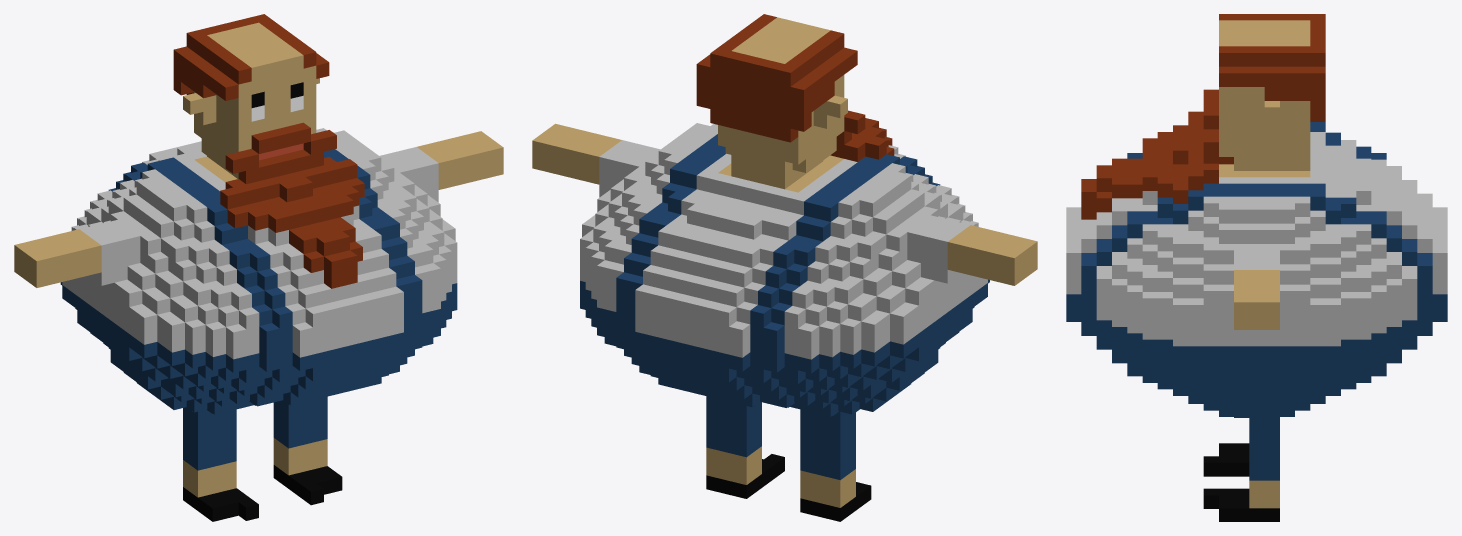
File: Barmen.fbx
The picture shows the model from 3 angles, left to right: view 1: azimuth 30°, elevation 25°; view 2: azimuth 150°, elevation 25°; view 3: azimuth 270°, elevation 25°; orthographic projection. The views are drawn at different scales.
Visible parts, largest first — view 1: Cube.001; view 2: Cube.001; view 3: Cube.001.
Boxes of the visible parts, x1=… form: Cube.001: x1=14, y1=14, x2=503, y2=521; Cube.001: x1=532, y1=14, x2=1037, y2=521; Cube.001: x1=1066, y1=14, x2=1447, y2=521.
Bounding box in the file's own units: 100 × 91 × 69.
